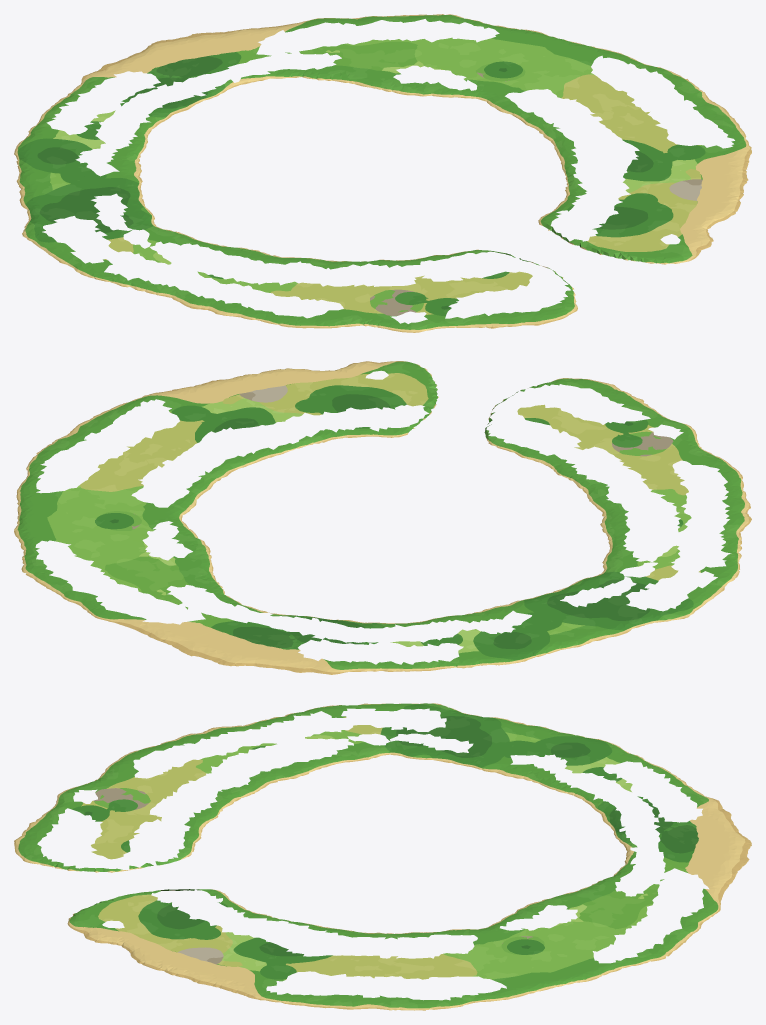
The model's file is Isl-atoll5-Ground.fbx.
3 renders of one model, top to bottom at view 1: azimuth 30°, elevation 25°; view 2: azimuth 150°, elevation 25°; view 3: azimuth 270°, elevation 25°, orthographic. The views are drawn at different scales.
Visible parts, largest first — view 1: Isl-atoll5-Ground-c22, Isl-atoll5-Ground-c21, Isl-atoll5-Ground-c12, Isl-atoll5-Ground-c11, Isl-atoll5-Ground-c31, Isl-atoll5-Ground-c10, Isl-atoll5-Ground-c32, Isl-atoll5-Ground-c13, Isl-atoll5-Ground-c23, Isl-atoll5-Ground-c02, Isl-atoll5-Ground-c01, Isl-atoll5-Ground-c20; view 2: Isl-atoll5-Ground-c22, Isl-atoll5-Ground-c21, Isl-atoll5-Ground-c11, Isl-atoll5-Ground-c12, Isl-atoll5-Ground-c23, Isl-atoll5-Ground-c13, Isl-atoll5-Ground-c32, Isl-atoll5-Ground-c31, Isl-atoll5-Ground-c10, Isl-atoll5-Ground-c02, Isl-atoll5-Ground-c01, Isl-atoll5-Ground-c20; view 3: Isl-atoll5-Ground-c22, Isl-atoll5-Ground-c21, Isl-atoll5-Ground-c12, Isl-atoll5-Ground-c11, Isl-atoll5-Ground-c31, Isl-atoll5-Ground-c32, Isl-atoll5-Ground-c23, Isl-atoll5-Ground-c13, Isl-atoll5-Ground-c10, Isl-atoll5-Ground-c20, Isl-atoll5-Ground-c02, Isl-atoll5-Ground-c01.
Part boxes in pixels (box(x1,y1,x2,y2)): Isl-atoll5-Ground-c22: box(216, 14, 626, 131); Isl-atoll5-Ground-c21: box(470, 109, 741, 282); Isl-atoll5-Ground-c12: box(14, 63, 239, 235); Isl-atoll5-Ground-c11: box(102, 225, 512, 328); Isl-atoll5-Ground-c31: box(625, 91, 751, 197); Isl-atoll5-Ground-c10: box(344, 281, 561, 332); Isl-atoll5-Ground-c32: box(510, 28, 702, 108); Isl-atoll5-Ground-c13: box(55, 38, 215, 103); Isl-atoll5-Ground-c23: box(179, 15, 417, 63); Isl-atoll5-Ground-c02: box(16, 175, 99, 252); Isl-atoll5-Ground-c01: box(46, 236, 200, 309); Isl-atoll5-Ground-c20: box(513, 235, 713, 318); Isl-atoll5-Ground-c22: box(20, 457, 268, 628); Isl-atoll5-Ground-c21: box(133, 365, 541, 480); Isl-atoll5-Ground-c11: box(497, 411, 750, 584); Isl-atoll5-Ground-c12: box(245, 573, 649, 671); Isl-atoll5-Ground-c23: box(37, 581, 244, 658); Isl-atoll5-Ground-c13: box(206, 629, 403, 674); Isl-atoll5-Ground-c32: box(14, 440, 132, 542); Isl-atoll5-Ground-c31: box(55, 374, 250, 456); Isl-atoll5-Ground-c10: box(542, 379, 712, 454); Isl-atoll5-Ground-c02: box(565, 589, 709, 648); Isl-atoll5-Ground-c01: box(654, 516, 751, 600); Isl-atoll5-Ground-c20: box(347, 361, 588, 412); Isl-atoll5-Ground-c22: box(390, 849, 681, 973); Isl-atoll5-Ground-c21: box(101, 849, 392, 973); Isl-atoll5-Ground-c12: box(390, 727, 681, 851); Isl-atoll5-Ground-c11: box(101, 727, 392, 851); Isl-atoll5-Ground-c31: box(167, 969, 392, 1010); Isl-atoll5-Ground-c32: box(390, 969, 608, 1010); Isl-atoll5-Ground-c23: box(674, 849, 749, 948); Isl-atoll5-Ground-c13: box(674, 777, 751, 851); Isl-atoll5-Ground-c10: box(14, 772, 107, 851); Isl-atoll5-Ground-c20: box(15, 849, 107, 943); Isl-atoll5-Ground-c02: box(390, 703, 553, 730); Isl-atoll5-Ground-c01: box(207, 703, 392, 730).
Bounding box in the file's own units: 133 × 0.4899 × 135.
